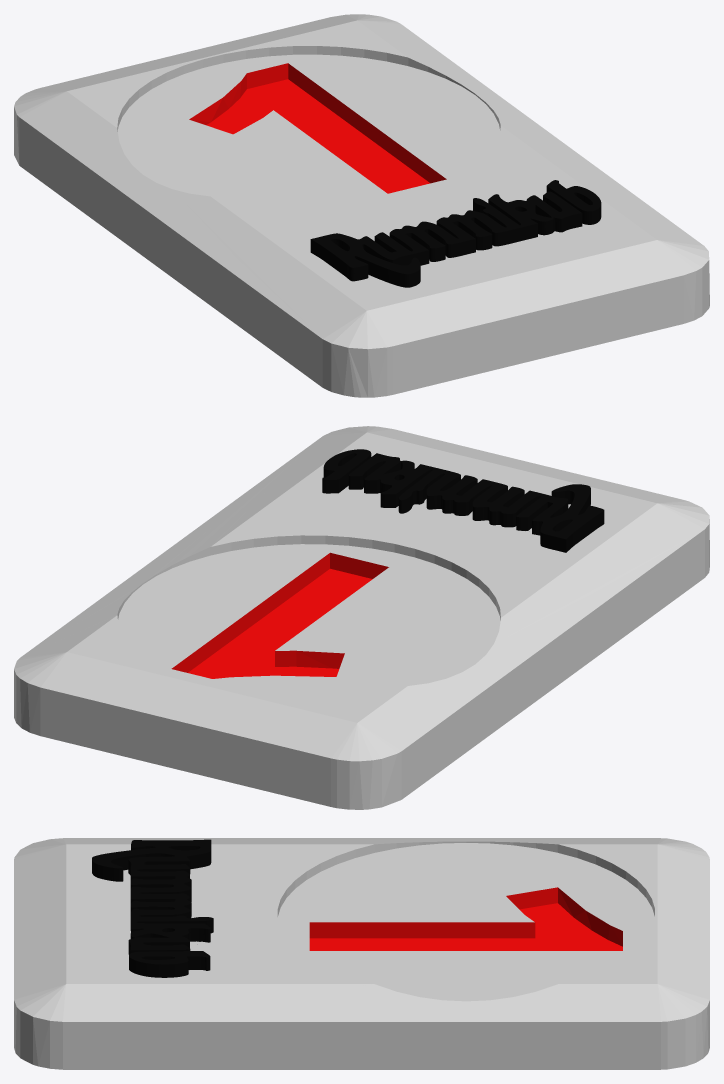
The picture shows the model from 3 angles, top to bottom: view 1: azimuth 30°, elevation 25°; view 2: azimuth 150°, elevation 25°; view 3: azimuth 270°, elevation 25°; orthographic projection.
Visible parts, largest first — view 1: Rummikub 1 Fixed; view 2: Rummikub 1 Fixed; view 3: Rummikub 1 Fixed.
Part boxes in pixels (x1,y1,x2,y2): Rummikub 1 Fixed: [14, 14, 709, 397]; Rummikub 1 Fixed: [14, 426, 709, 809]; Rummikub 1 Fixed: [14, 838, 709, 1069].
Bounding box in the file's own units: 2499 × 489 × 4000.
